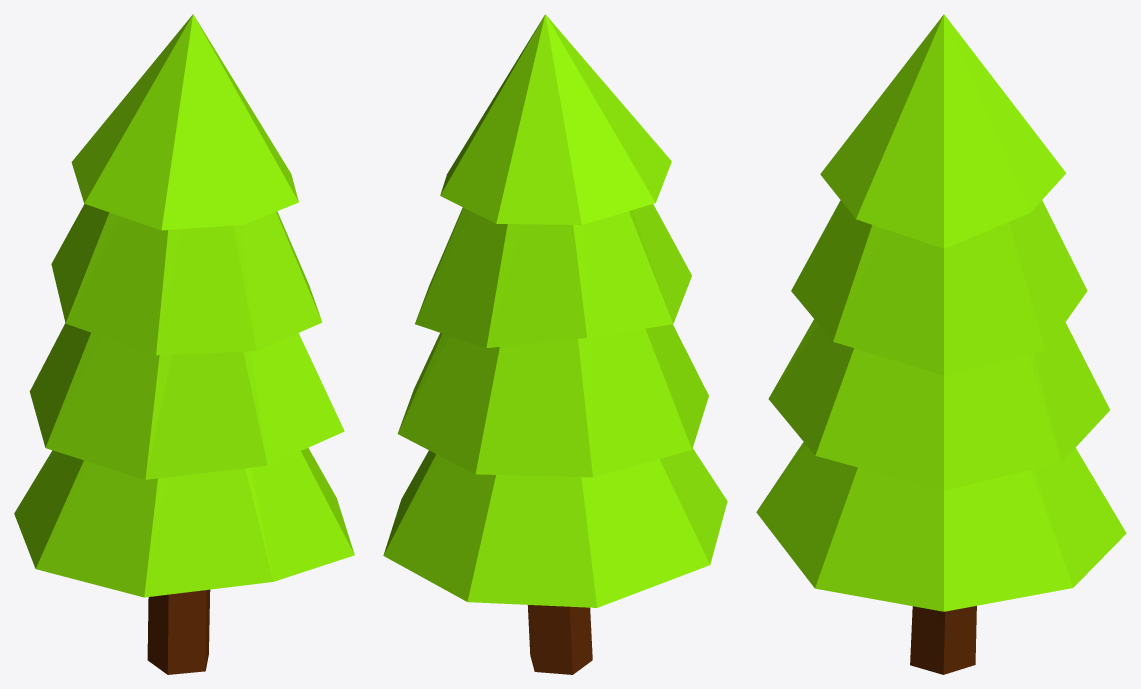
The model's file is 3D_TreeNormal_2.FBX.
3 views of the same model, side by side, from view 1: azimuth 30°, elevation 25°; view 2: azimuth 150°, elevation 25°; view 3: azimuth 270°, elevation 25° (orthographic).
Parts seen in each view (by area): view 1: Trunk; view 2: Trunk; view 3: Trunk.
Part boxes in pixels (x1,y1,x2,y2): Trunk: [14, 14, 354, 674]; Trunk: [383, 14, 727, 674]; Trunk: [756, 14, 1126, 674].
Bounding box in the file's own units: 275 × 286 × 556.
